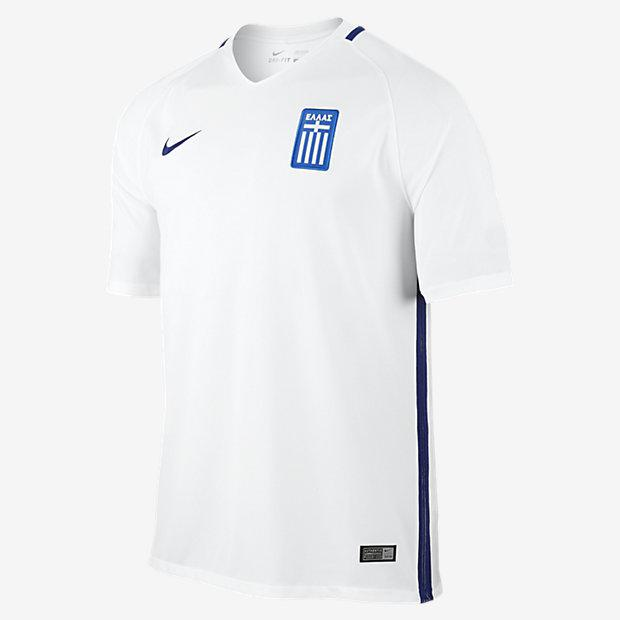teeshirt: (91, 17, 538, 604)
